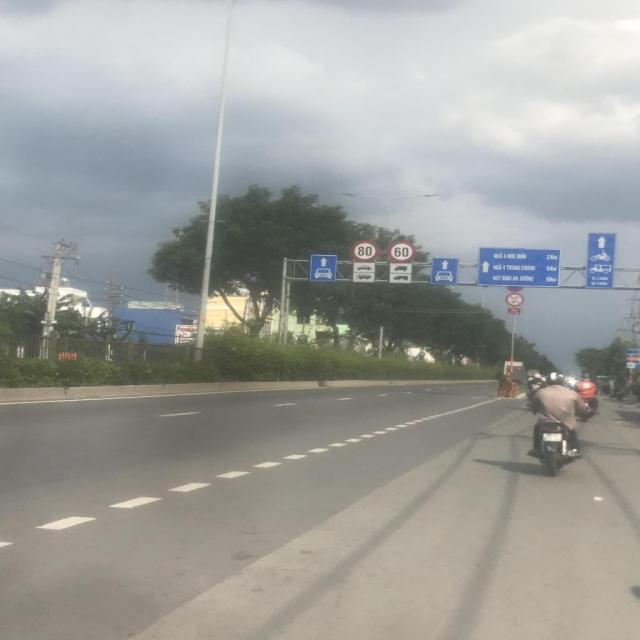cam_xe_2_banh_va_xe_3_banh_co_dong_co: (506, 293, 524, 307)
duong_cho_xe_o_to: (310, 255, 338, 282), (430, 258, 458, 284)
khac: (477, 248, 561, 288), (586, 234, 616, 288), (389, 273, 412, 284), (390, 263, 412, 274), (353, 273, 375, 282), (354, 263, 374, 272)
toc_do_toi_da_60: (386, 241, 417, 263)
toc_do_toi_da_80: (350, 240, 380, 262)
